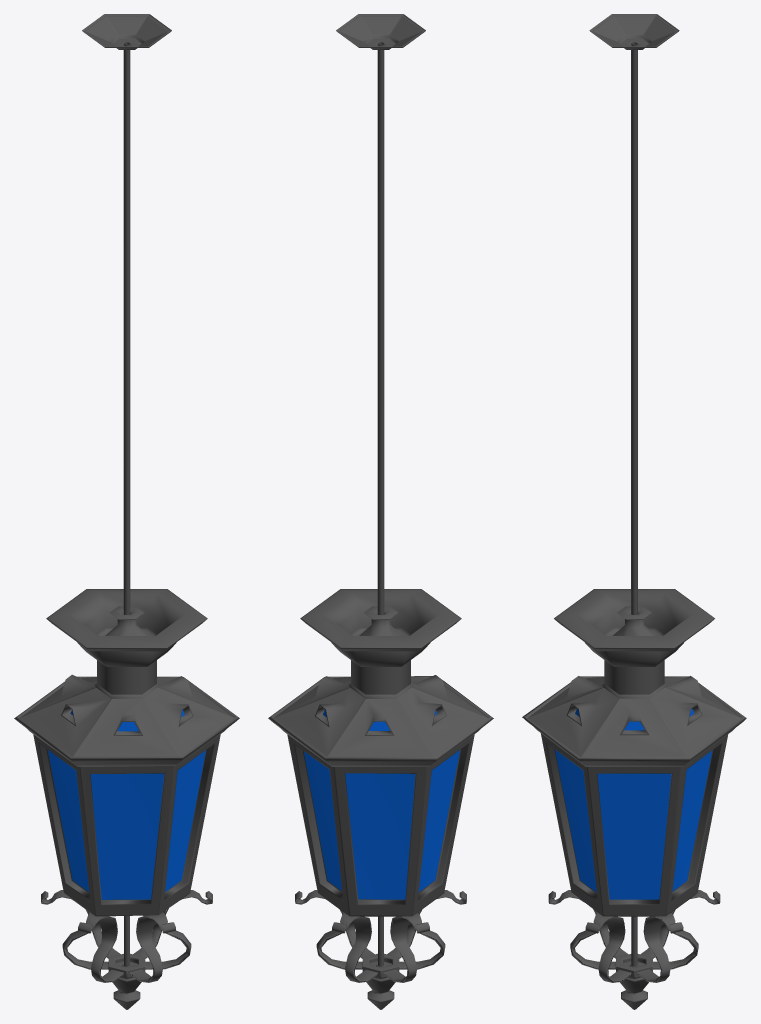
The picture shows the model from 3 angles, left to right: view 1: azimuth 30°, elevation 25°; view 2: azimuth 150°, elevation 25°; view 3: azimuth 270°, elevation 25°; orthographic projection.
Parts seen in each view (by area): view 1: polySurface5 (×2), polySurface1, polySurface7, polySurface9, polySurface3, pCylinder9; view 2: polySurface5 (×2), polySurface1, polySurface7, polySurface9, polySurface3, pCylinder9; view 3: polySurface5 (×2), polySurface1, polySurface7, polySurface9, polySurface3, pCylinder9.
Boxes of the visible parts, x1,y1,x2,y2 form: polySurface5 (×2): [14, 676, 239, 916]; polySurface1: [19, 674, 234, 756]; polySurface7: [46, 589, 207, 694]; polySurface9: [41, 890, 212, 1009]; polySurface3: [123, 42, 130, 614]; pCylinder9: [82, 14, 171, 49]; polySurface5 (×2): [268, 676, 493, 916]; polySurface1: [273, 675, 488, 756]; polySurface7: [300, 589, 461, 694]; polySurface9: [295, 890, 466, 1009]; polySurface3: [377, 42, 384, 614]; pCylinder9: [336, 14, 425, 49]; polySurface5 (×2): [522, 676, 746, 916]; polySurface1: [527, 676, 740, 756]; polySurface7: [554, 589, 714, 694]; polySurface9: [548, 890, 720, 1009]; polySurface3: [631, 42, 637, 614]; pCylinder9: [589, 14, 679, 49].
Size of the model in its own units: 0.3627 by 2 by 0.4162.
